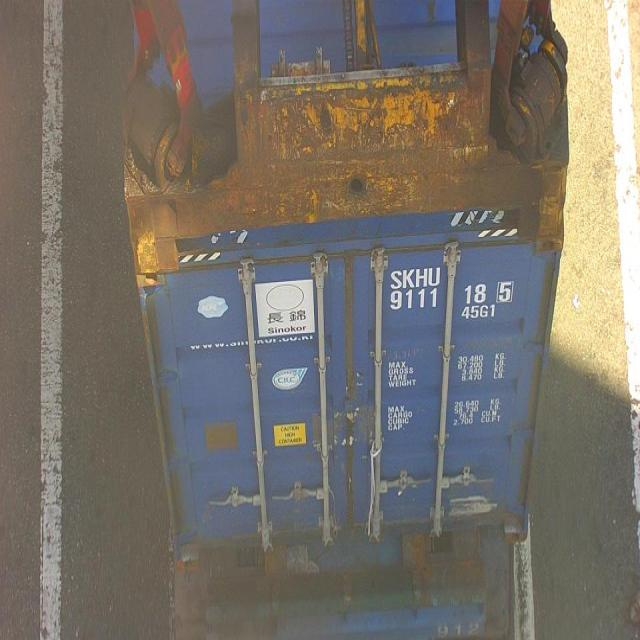ISO: (462, 304, 498, 319)
container_number: (390, 264, 513, 308)
